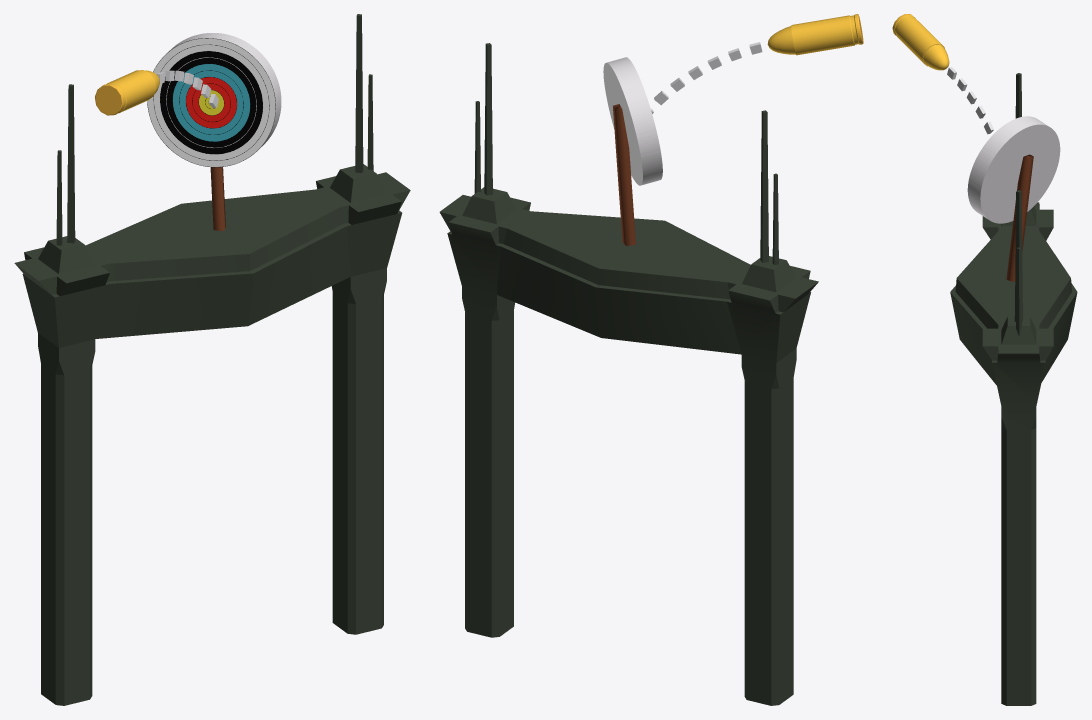
The model's file is gate2.fbx.
The picture shows the model from 3 angles, left to right: view 1: azimuth 30°, elevation 25°; view 2: azimuth 150°, elevation 25°; view 3: azimuth 270°, elevation 25°; orthographic projection. The views are drawn at different scales.
Parts seen in each view (by area): view 1: military_gate001; view 2: military_gate001; view 3: military_gate001.
Boxes of the visible parts, x1=… form: military_gate001: x1=14, y1=14, x2=410, y2=705; military_gate001: x1=439, y1=14, x2=863, y2=705; military_gate001: x1=892, y1=14, x2=1077, y2=705.
Size of the model in its own units: 211 by 361 by 109.
Materials: 3 (2 with a texture image).
